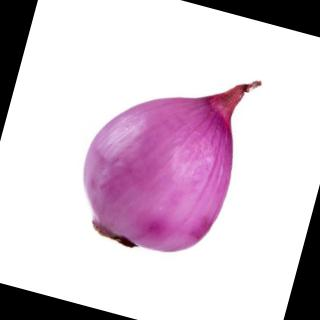Bawang Merah: (64, 40, 266, 275)
